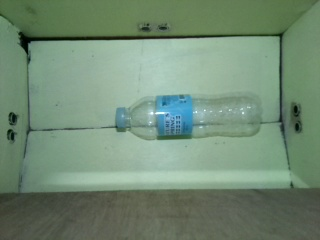bottle: (114, 90, 261, 140)
